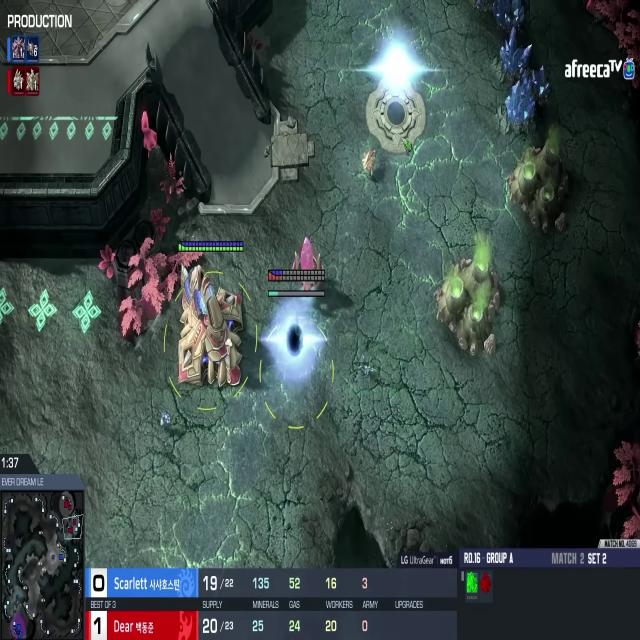probe: (360, 141, 379, 187)
